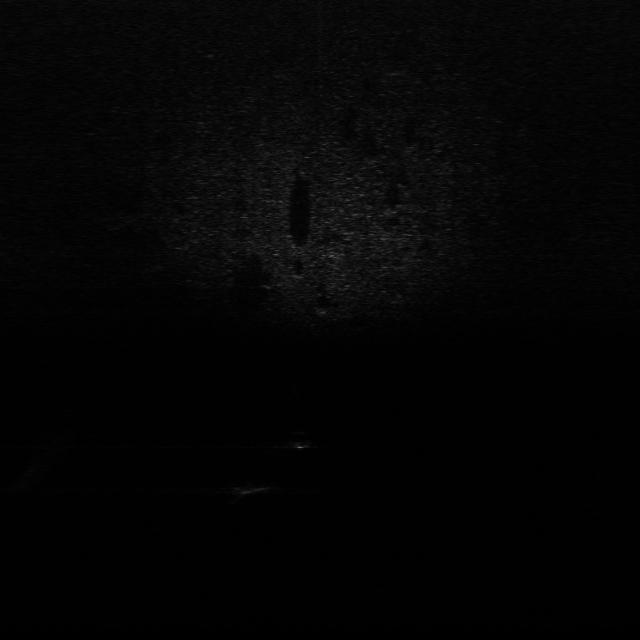ball: (287, 428, 317, 451)
square cage: (223, 479, 282, 498)
